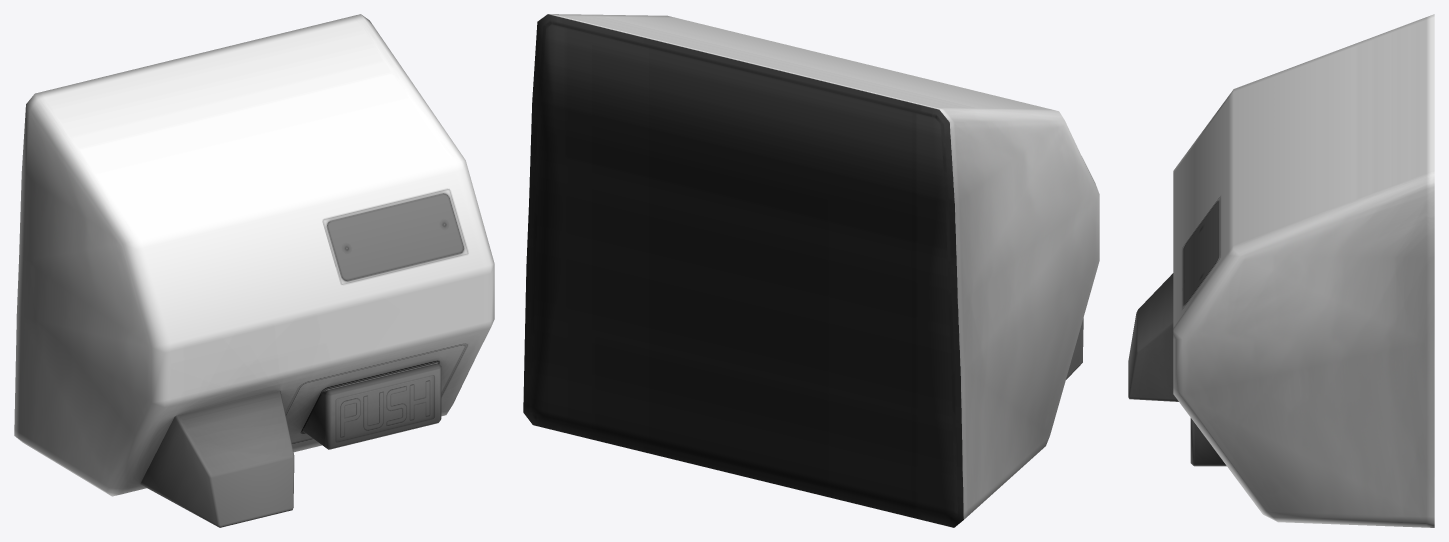
The picture shows the model from 3 angles, left to right: view 1: azimuth 30°, elevation 25°; view 2: azimuth 150°, elevation 25°; view 3: azimuth 270°, elevation 25°; orthographic projection. The views are drawn at different scales.
Visible parts, largest first — view 1: Hand Dryer_0; view 2: Hand Dryer_0; view 3: Hand Dryer_0.
Part boxes in pixels (x1,y1,x2,y2): Hand Dryer_0: (14,14,494,527); Hand Dryer_0: (523,14,1099,527); Hand Dryer_0: (1128,14,1434,527).
Bounding box in the file's own units: 1.04 × 0.936 × 0.7477.
Materials: 1 (1 with a texture image).
